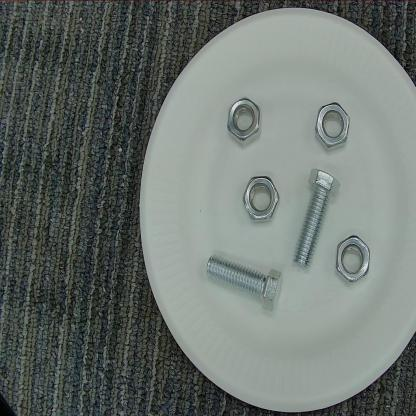FOD: (289, 162, 340, 278), (205, 247, 287, 316), (312, 93, 354, 156), (331, 230, 374, 288), (225, 92, 265, 154), (236, 174, 284, 225)
